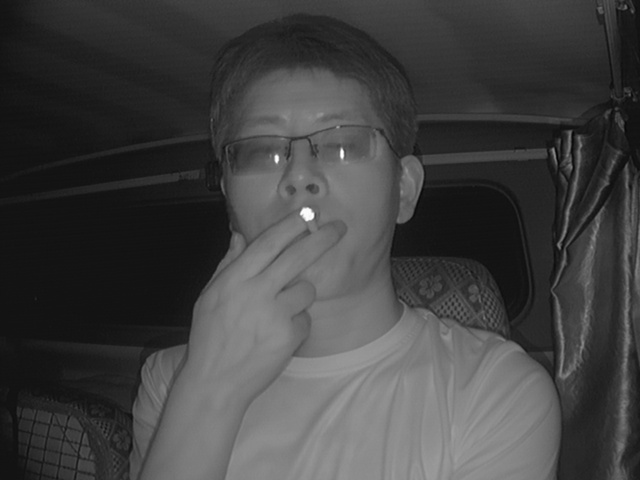hand: (228, 212, 341, 359)
